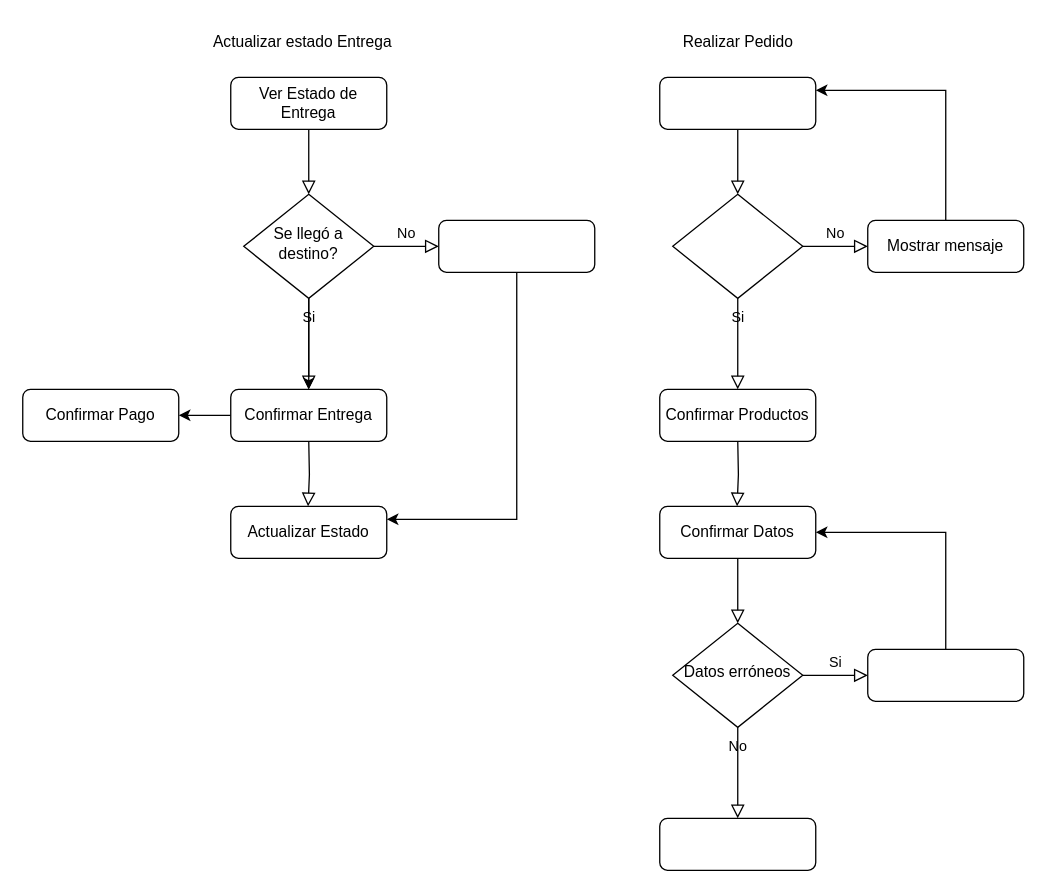
This 1047x893 diagram has some shape labels left out. The centre of each missing label's shape, as x and y in pixels:
"Agregar Producto" belongs at point 737,102.
"Cancelar Pedido" belongs at point 516,245.
"Confirmar Pedido" belongs at point 737,843.
"Hay stock suficiente?" belongs at point 737,245.
"Modificar datos" belongs at point 945,674.
